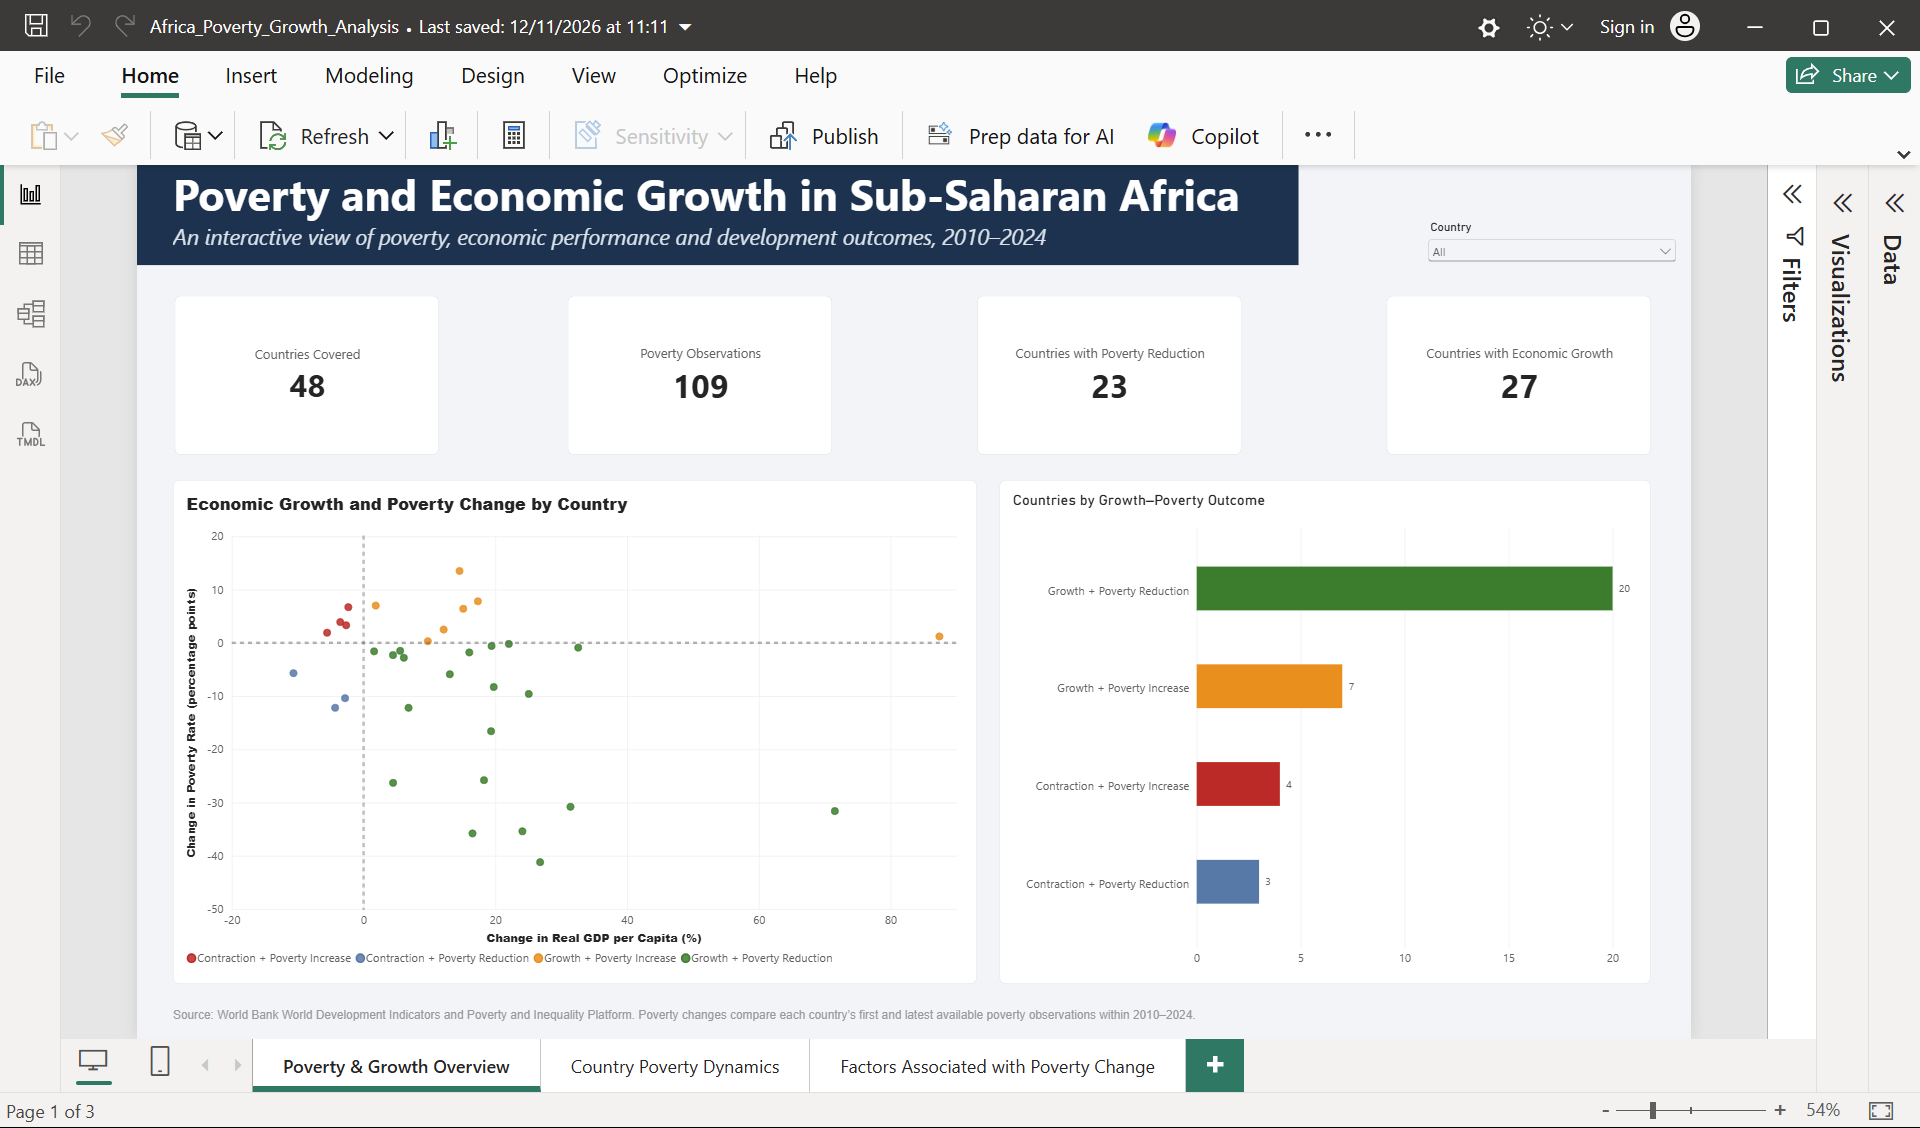

The dashboard page shown, as its layout file describes it:
{"tool":"powerbi","page":{"name":"Poverty & Growth Overview","canvas":[1920,1080],"ordinal":0},"visuals":[{"type":"shape","box":[0,0,1435.5,123.7],"z":0},{"type":"textbox","box":[44.6,0,1390.9,123.7],"z":1000},{"type":"cardVisual","fields":{"Data":["Country.Countries Covered"]},"box":[45.4,161.3,327.1,197.6],"z":2000},{"type":"cardVisual","fields":{"Data":["powerbi_country_year.Poverty Observations"]},"box":[531.5,161.3,327.1,197.6],"z":3000},{"type":"cardVisual","fields":{"Data":["powerbi_growth_poverty.Countries with Poverty Reduction"]},"box":[1038,161.3,327.1,197.6],"z":4000},{"type":"cardVisual","fields":{"Data":["powerbi_growth_poverty.Countries with Economic Growth"]},"box":[1544.5,161.3,327.1,197.6],"z":5000},{"type":"scatterChart","title":"Economic Growth and Poverty Change by Country","fields":{"Category":["powerbi_growth_poverty.country"],"Series":["powerbi_growth_poverty.growth_poverty_pattern"],"X":["Sum(powerbi_growth_poverty.real_gdp_change_pct)"],"Y":["Sum(powerbi_growth_poverty.poverty_change_pp)"]},"box":[44.6,389.3,993.5,622.5],"z":6000},{"type":"slicer","fields":{"Values":["Country.country"]},"box":[1589.6,68.9,316.3,54.7],"z":7000},{"type":"barChart","title":"Countries by Growth–Poverty Outcome","fields":{"Category":["powerbi_growth_poverty.growth_poverty_pattern"],"Y":["Count(Country.country)"]},"box":[1066.5,389.3,804.9,622.5],"z":8000},{"type":"textbox","box":[44.6,1040.1,1390.9,40.6],"z":9000}]}

Visuals, with their boxes on the page's 1920x1080 design canvas (x1, y1, x2, y2). These are canvas units, not pixel positions in the 1920x1128 screenshot, which may show the page scaled, cropped or inside an application window:
shape: [0,0,1436,124]
textbox: [45,0,1436,124]
cardVisual - Country.Countries Covered: [45,161,372,359]
cardVisual - powerbi_country_year.Poverty Observations: [532,161,859,359]
cardVisual - powerbi_growth_poverty.Countries with Poverty Reduction: [1038,161,1365,359]
cardVisual - powerbi_growth_poverty.Countries with Economic Growth: [1544,161,1872,359]
"Economic Growth and Poverty Change by Country" scatterChart: [45,389,1038,1012]
slicer - Country.country: [1590,69,1906,124]
"Countries by Growth–Poverty Outcome" barChart: [1066,389,1871,1012]
textbox: [45,1040,1436,1081]
